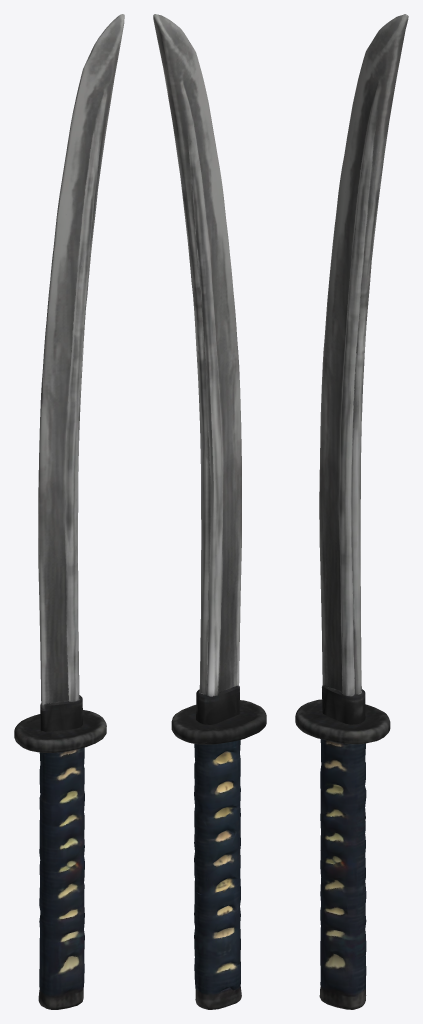
3 renders of one model, left to right at view 1: azimuth 30°, elevation 25°; view 2: azimuth 210°, elevation 25°; view 3: azimuth 330°, elevation 25°, orthographic. The views are drawn at different scales.
Visible parts, largest first — view 1: kunoichi-katana; view 2: kunoichi-katana; view 3: kunoichi-katana.
Part boxes in pixels (x1=…): kunoichi-katana: x1=14, y1=14, x2=124, y2=1009; kunoichi-katana: x1=153, y1=14, x2=266, y2=1009; kunoichi-katana: x1=295, y1=14, x2=408, y2=1009.
Size of the model in its own units: 0.1183 by 1.05 by 0.0716.
1 material, 1 textured.
